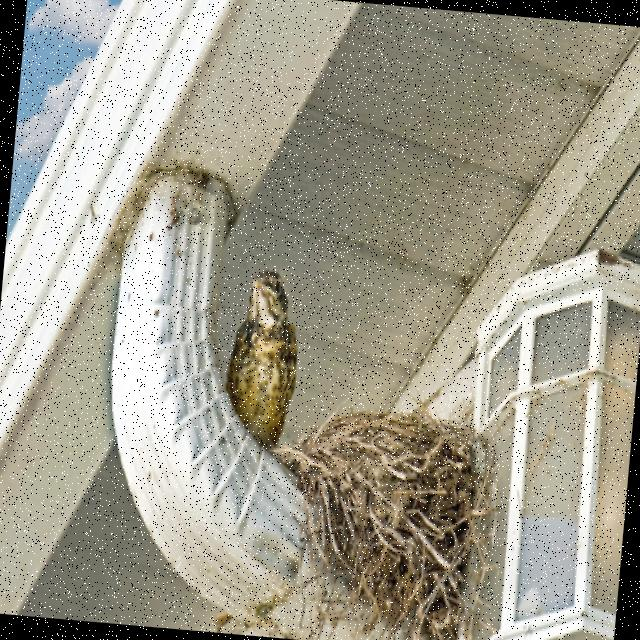bird: (218, 264, 307, 453)
